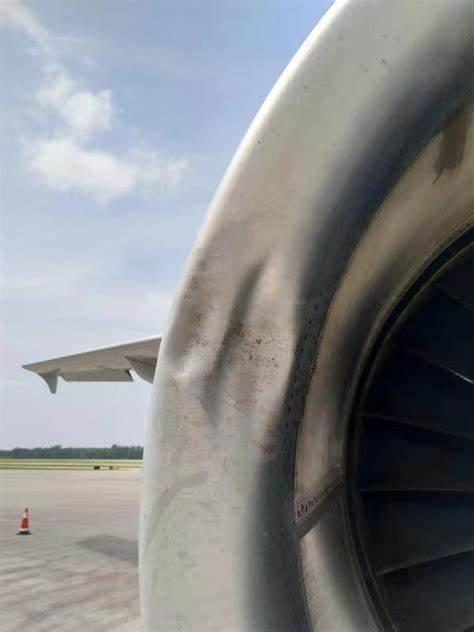Dents or Deformation: (154, 226, 321, 451)
